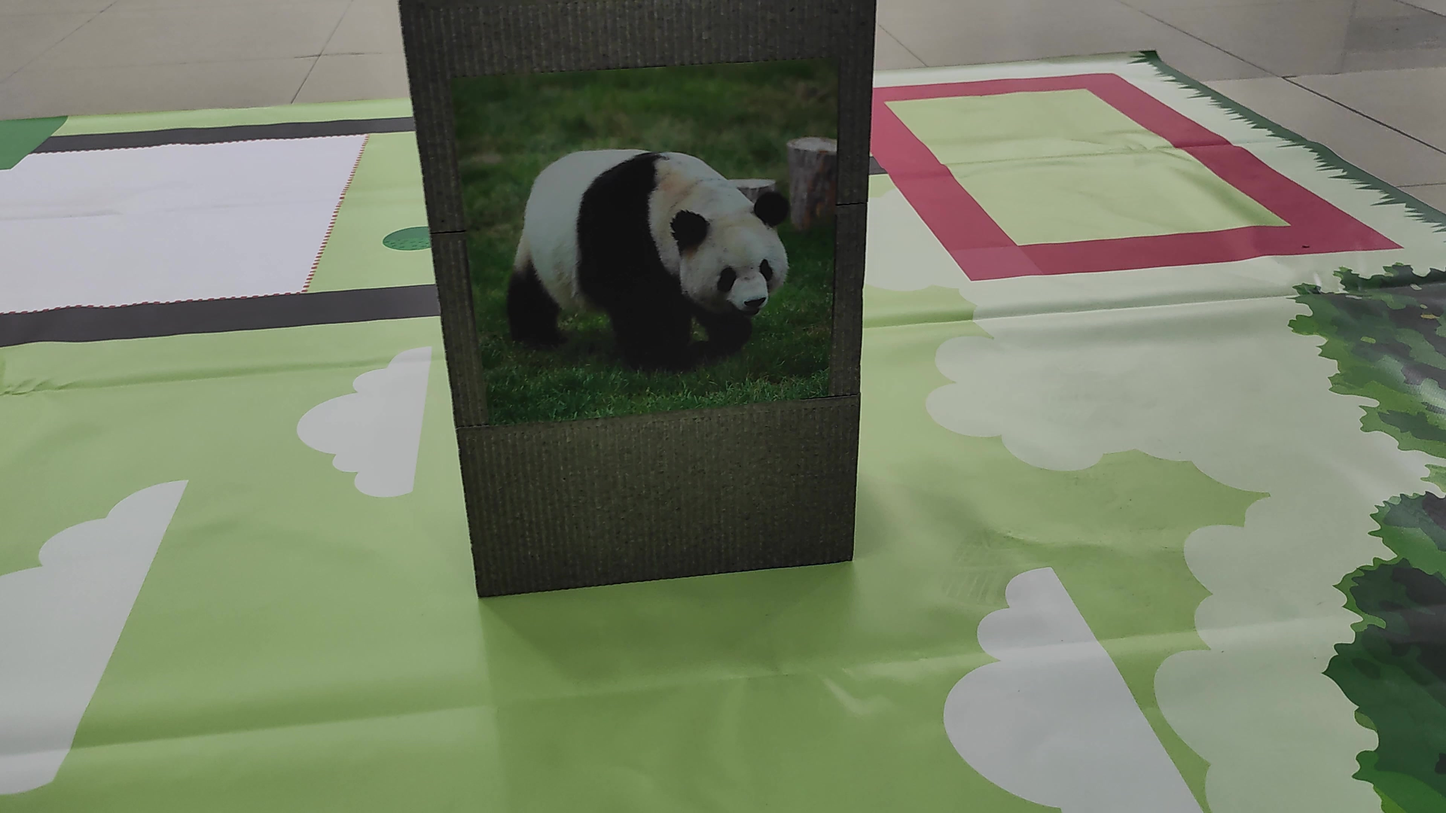panda: (484, 125, 812, 384)
